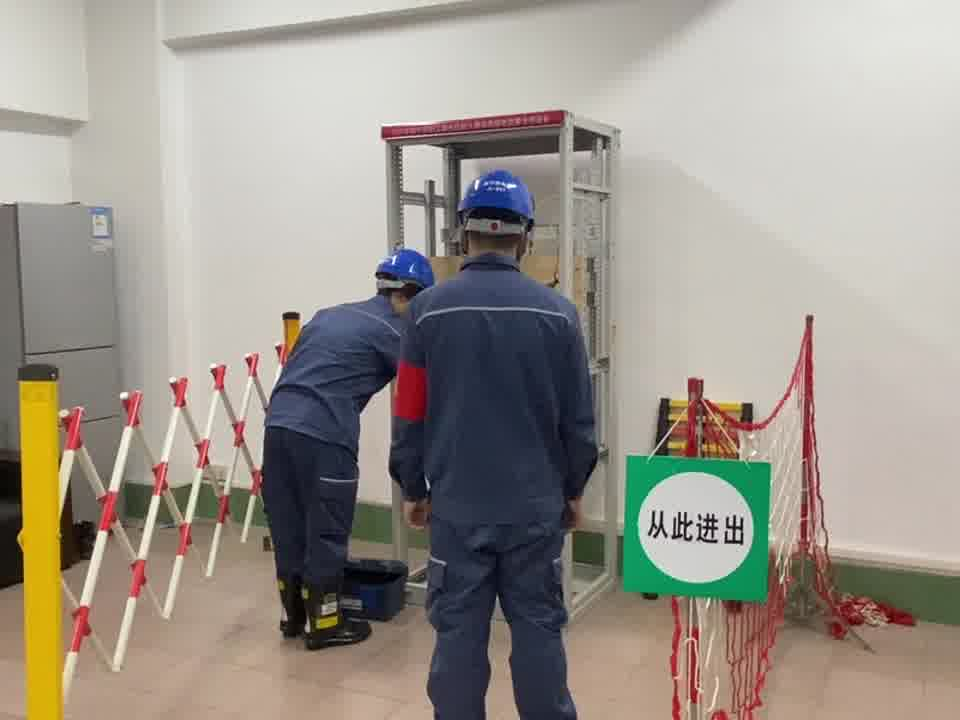badge: (393, 362, 431, 422)
downsuit: (422, 535, 589, 720), (261, 437, 360, 599)
halt: (455, 169, 540, 267), (374, 248, 434, 303)
hand: (558, 495, 588, 535), (403, 495, 435, 531)
intosign: (617, 448, 773, 611)
person: (392, 166, 601, 720), (258, 247, 437, 644)
shoe: (271, 572, 379, 652)
upsuit: (391, 265, 597, 524), (266, 297, 403, 432)
